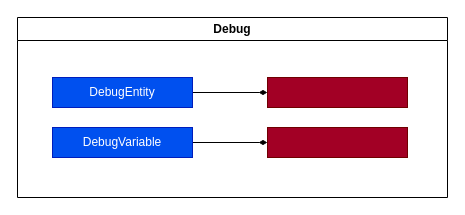
The diagram is 465 pixels wide and 215 high, and some of its shapes have lost their labels. Here are the shapes that lost their labels. From the top down, the centre of each, then its label:
At (337,92): "DebugEntityManager".
At (337,142): "DebugVariableManager".
